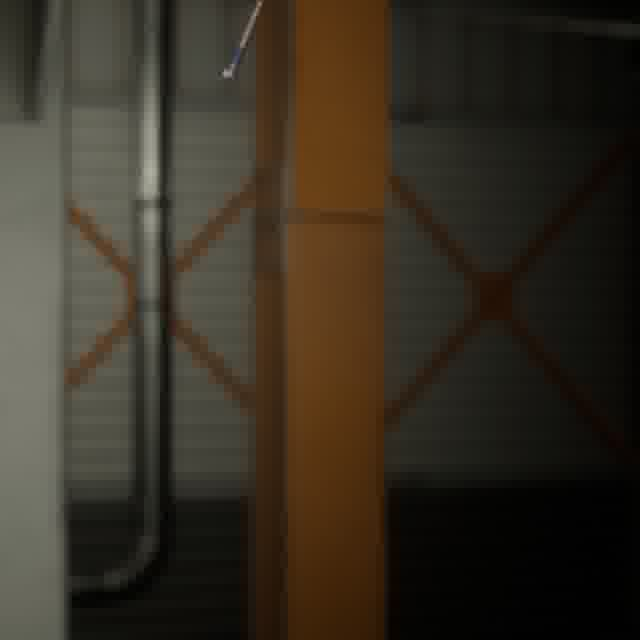bolt: (213, 0, 267, 87)
